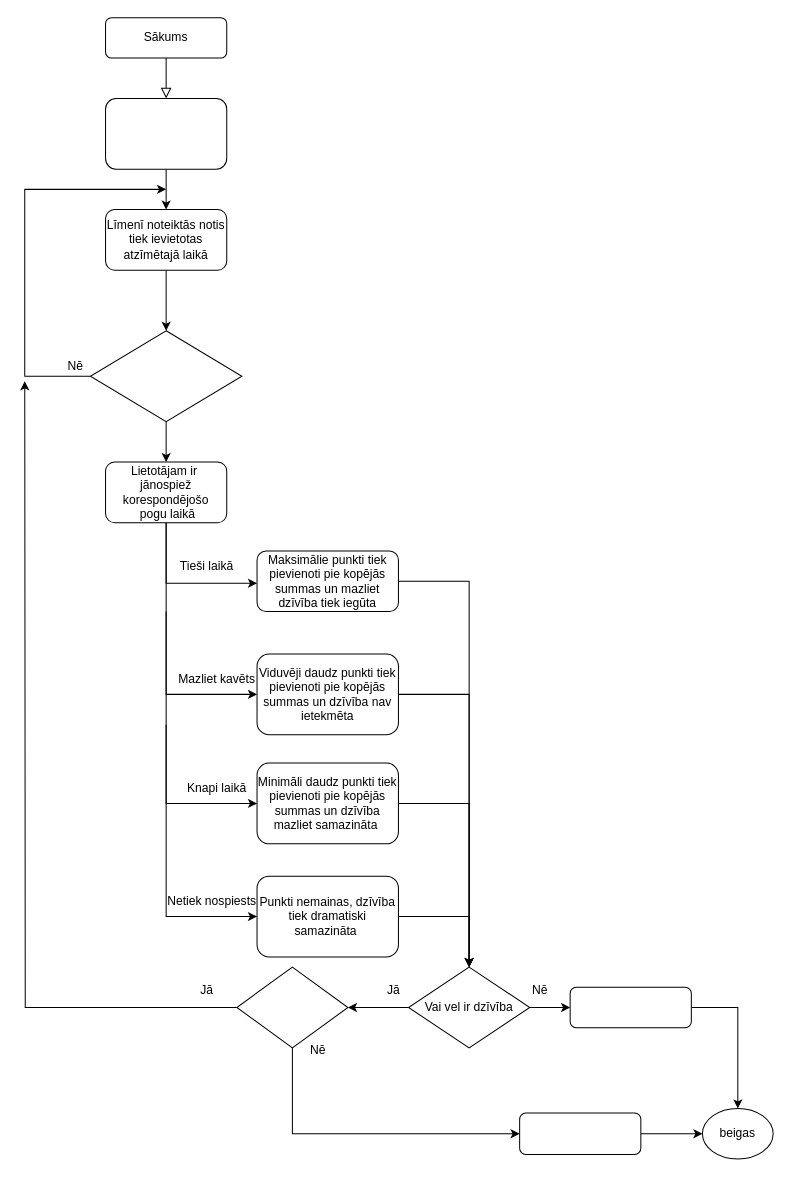
The diagram is 791 pixels wide and 1177 high, and some of its shapes have lost their labels. The shapes that lost their labels are listed below. From the top down, each one's box as (x1, y1, x2, y2) in pixels, then its label:
(105, 97, 227, 169): Izvēlētais līmenis tiek izlasīts un tiek saglabāts "līmeņa garums"
(89, 330, 242, 422): Vai atrodas notis kartes galā?
(236, 966, 348, 1048): Vai vel ir līmenī notis
(569, 986, 691, 1028): Zaudēšanas ekrāns tiek parādīts
(519, 1112, 641, 1154): Līmenis ir pabeigts
